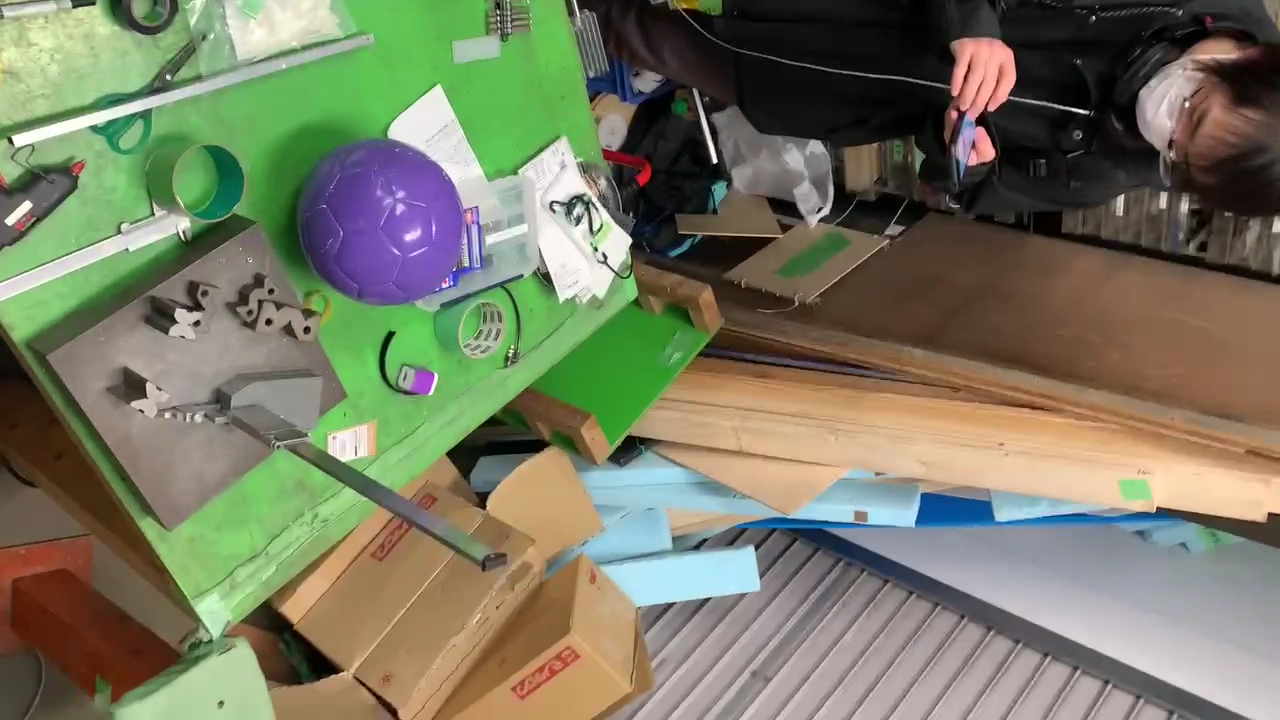purple: (297, 145, 462, 305)
